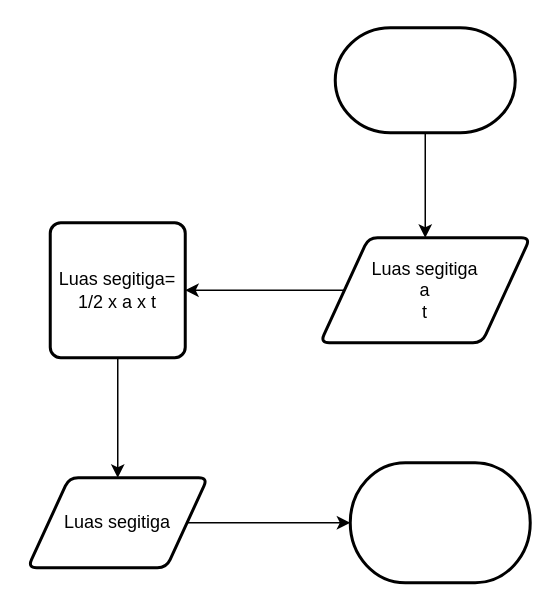
Some shapes in this 557 by 609 pixel diagram are drawn without their labels. Here are the shapes that lost their labels. From the top down, the box of each, then its label:
(333, 26, 516, 134): Start
(348, 460, 531, 584): End
